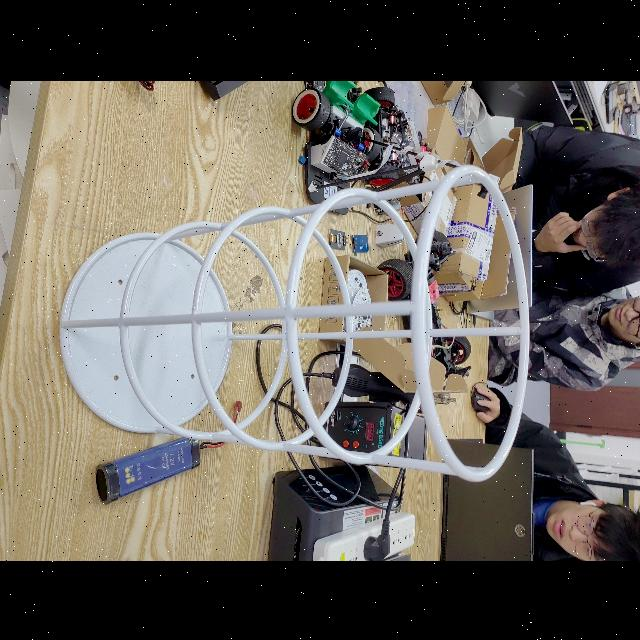S: (53, 160, 535, 486)
